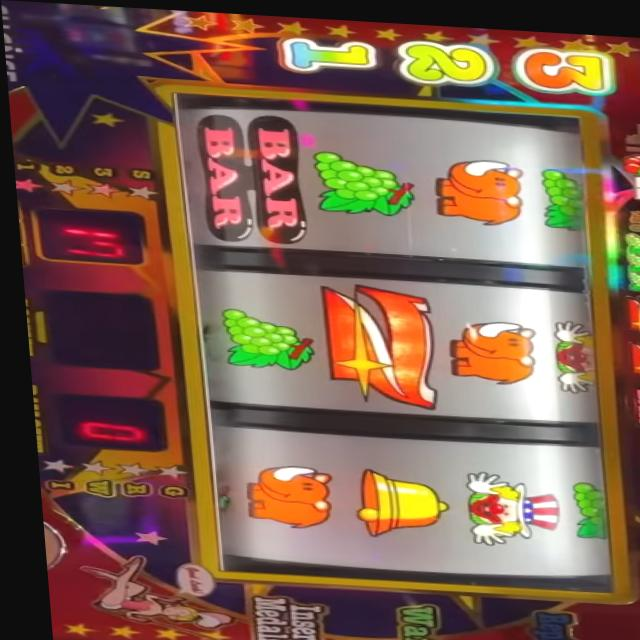bar: (191, 107, 308, 244), (623, 378, 640, 423)
bell: (341, 463, 445, 538)
cherry: (615, 144, 640, 169)
clown: (456, 464, 559, 545), (541, 312, 594, 389)
display: (174, 87, 613, 590)
elephant: (427, 150, 527, 222), (234, 458, 330, 528), (439, 313, 535, 381), (633, 489, 640, 511), (634, 468, 640, 489), (635, 509, 640, 533)
grape: (306, 145, 425, 215), (212, 304, 314, 370), (529, 160, 589, 227), (556, 474, 600, 534), (617, 224, 640, 248), (619, 264, 640, 285), (620, 246, 640, 265)
z: (313, 276, 437, 407), (618, 286, 640, 330), (618, 331, 640, 375)
